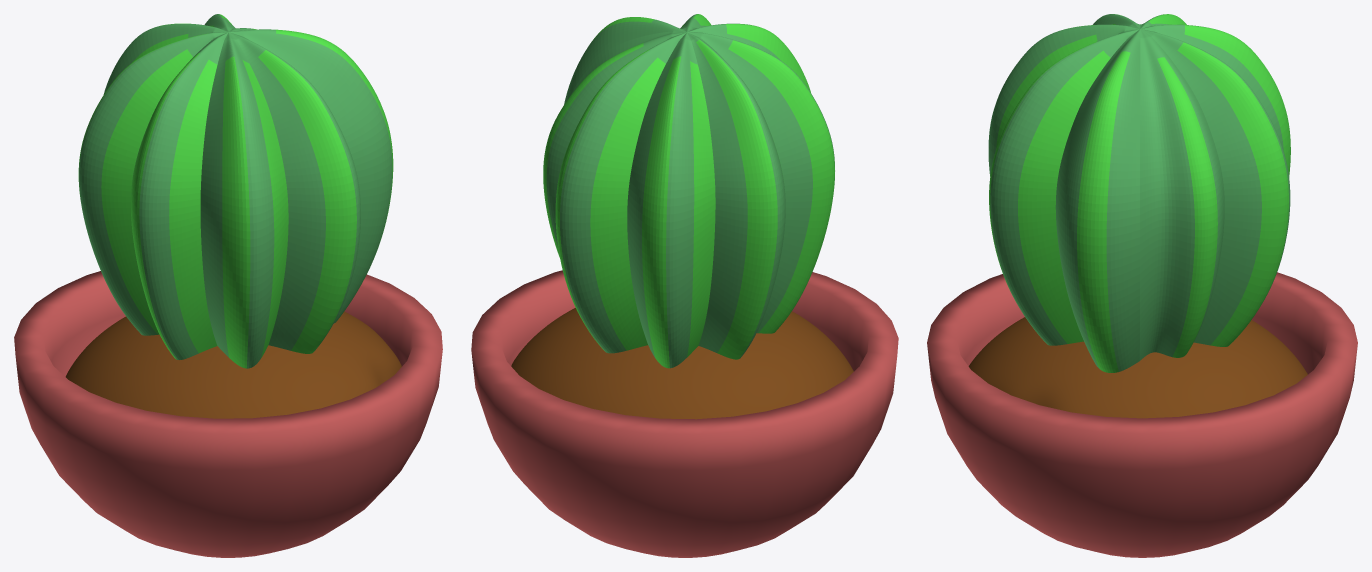
File: Verano 4.fbx
3 views of the same model, side by side, from view 1: azimuth 30°, elevation 25°; view 2: azimuth 150°, elevation 25°; view 3: azimuth 270°, elevation 25° (orthographic).
Parts seen in each view (by area): view 1: Sphere.004, Sphere, Sphere.003; view 2: Sphere.004, Sphere, Sphere.003; view 3: Sphere.004, Sphere, Sphere.003.
Boxes of the visible parts, x1,y1,x2,y2 form: Sphere.004: (78,14,393,368); Sphere: (14,271,442,557); Sphere.003: (65,311,401,418); Sphere.004: (543,14,834,368); Sphere: (471,270,898,557); Sphere.003: (511,308,853,419); Sphere.004: (988,14,1290,372); Sphere: (927,272,1357,557); Sphere.003: (968,317,1307,418).
Bounding box in the file's own units: 49.12 × 64 × 49.12.
